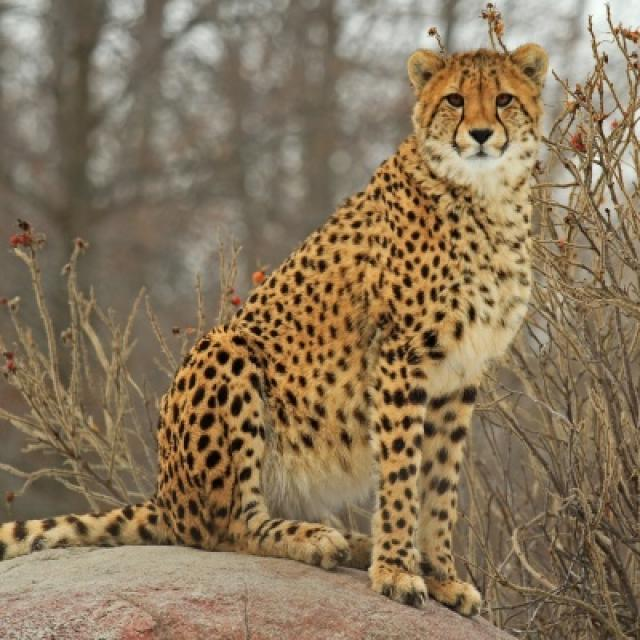Cheetah: (0, 29, 550, 618)
